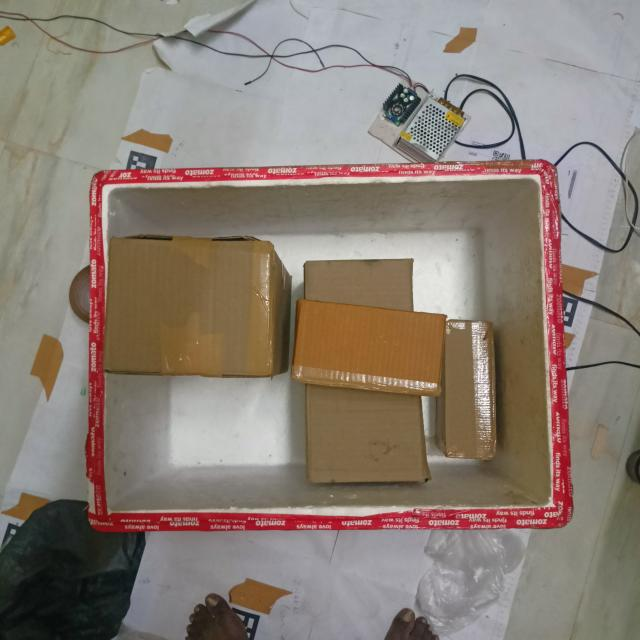box: (108, 234, 269, 379), (287, 294, 431, 388)
